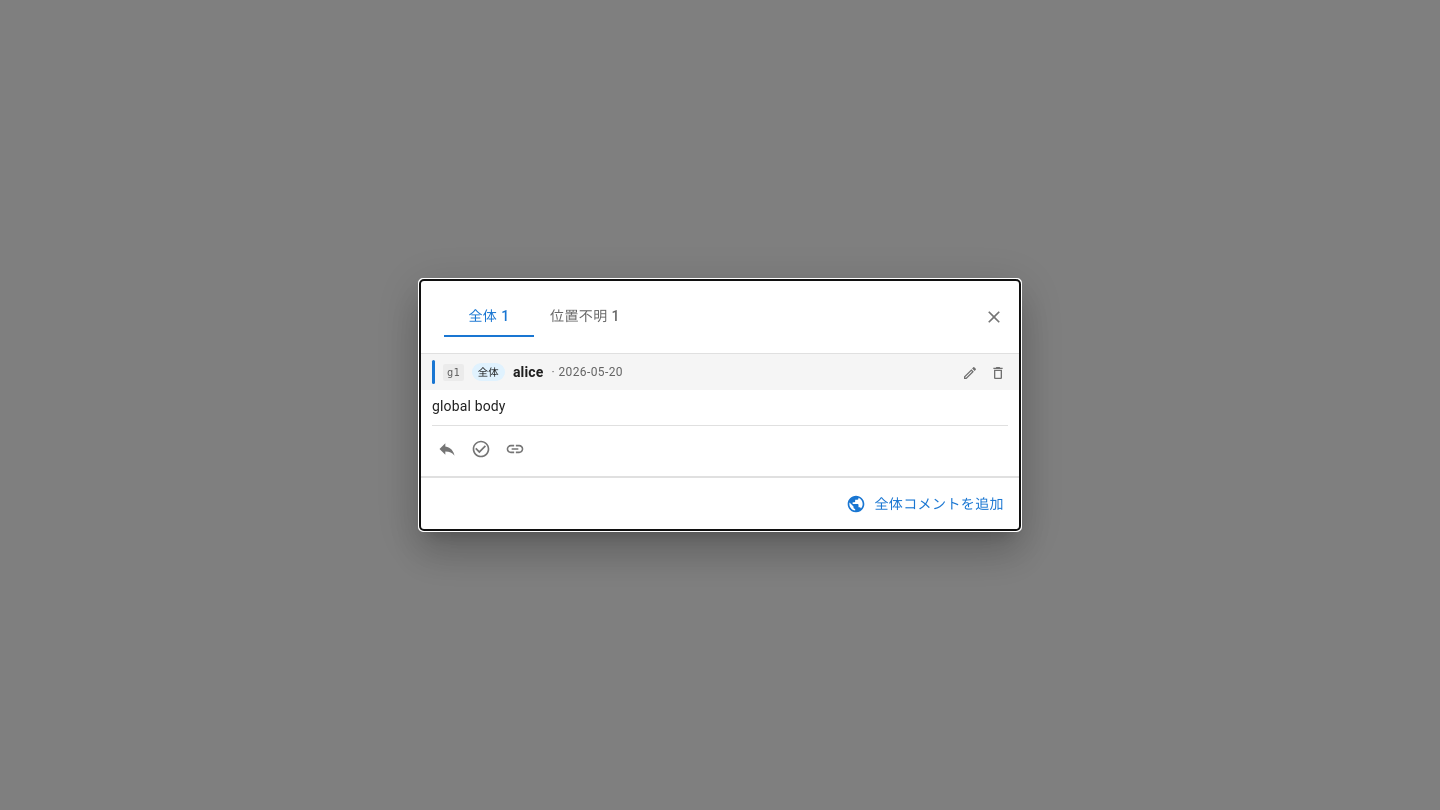
GlobalCommentsDialog › switches the visible list when a different tab is selected
The image size is (1440, 810).
Expected: the text "global body" is shown, [432, 398, 506, 414]
Expected: the text "orphan body" is not shown
Click the tab with test id "global-comments-tab-orphan" at (585, 317), box [534, 296, 636, 338]
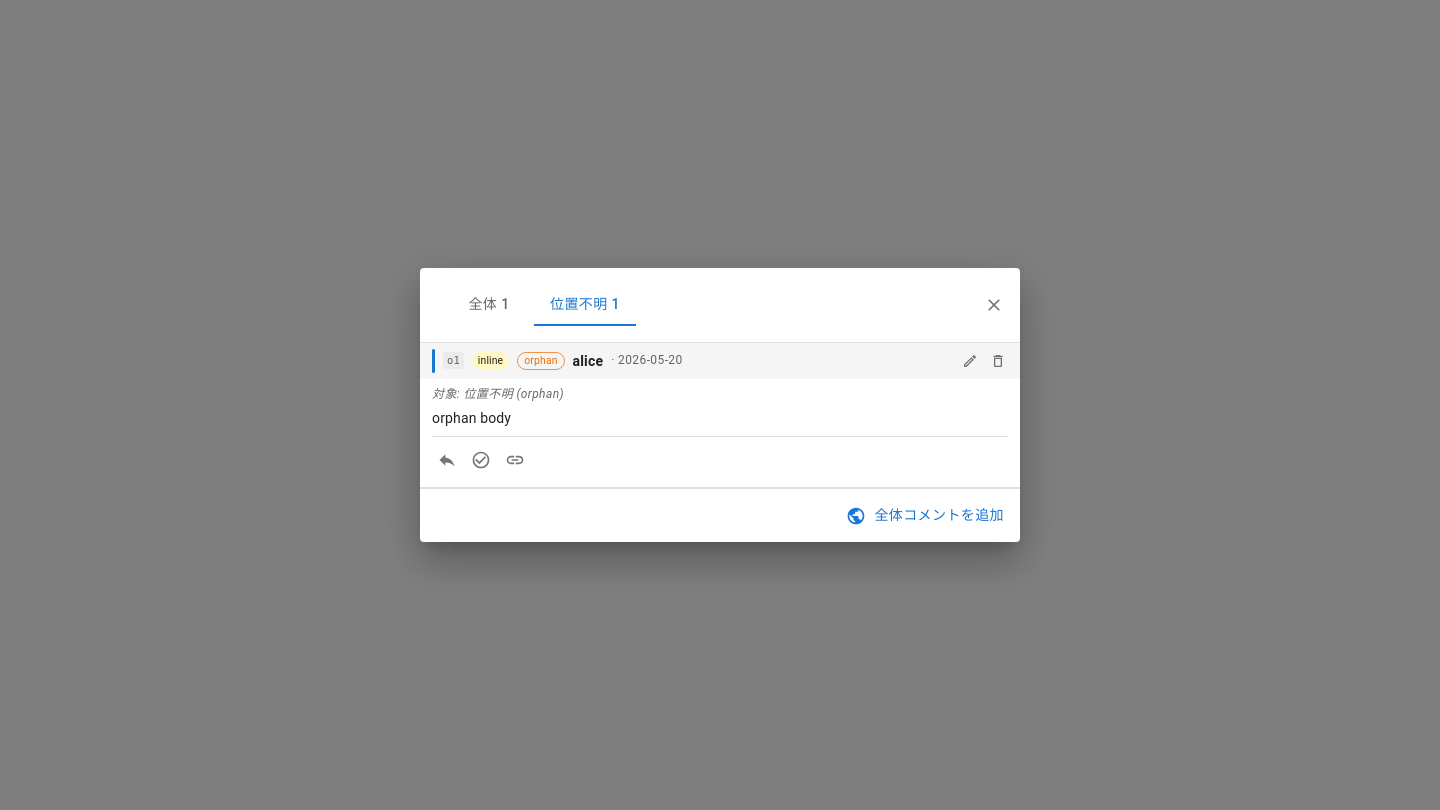
Now the text "orphan body" is shown, box [432, 410, 511, 426]
Now the text "global body" is gone
